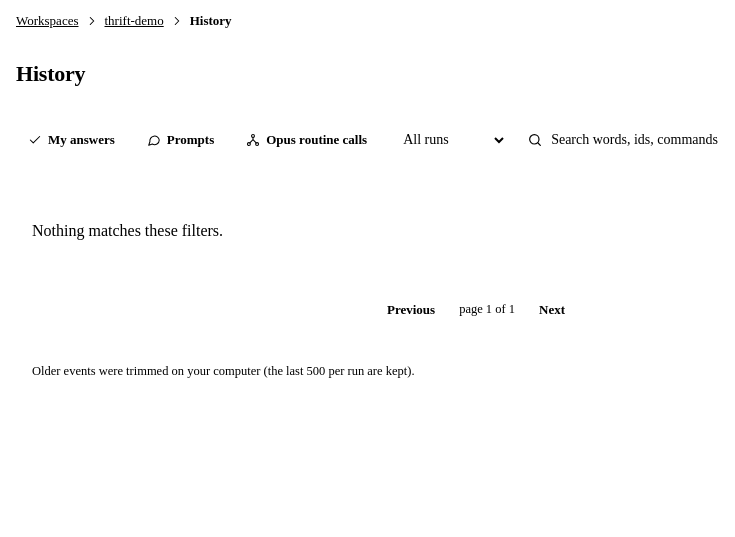
Test: History Prompts filter › labels inbox history as Question and shows held and failed prompt status details
The image size is (735, 537).
Click the button "Prompts": (180, 140) x1=135 y1=118 x2=226 y2=162
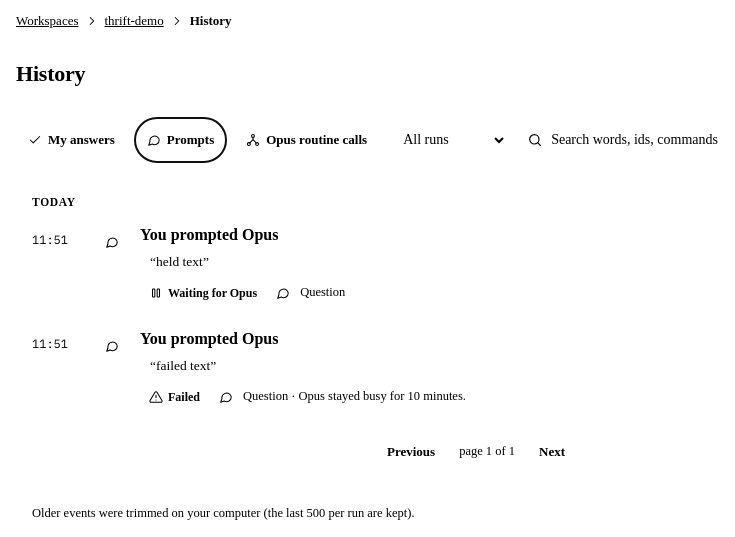
Expected: the text "Waiting for Opus" is shown, x1=149 y1=286 x2=257 y2=300
